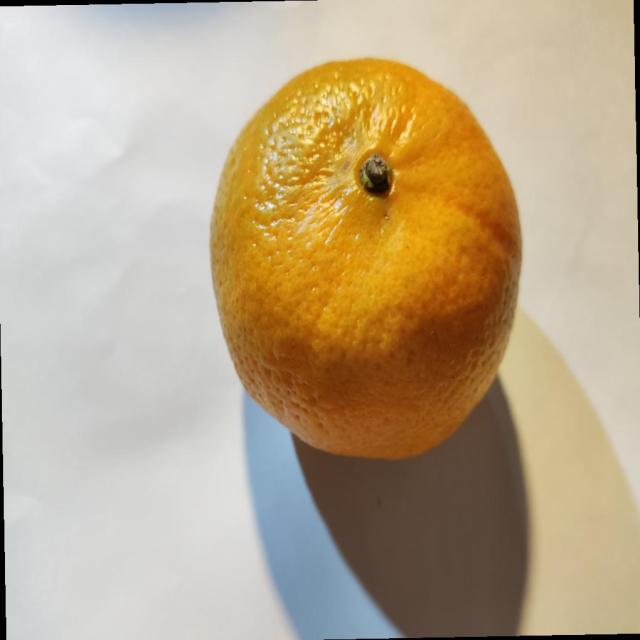fresh orange: (208, 56, 524, 460)
